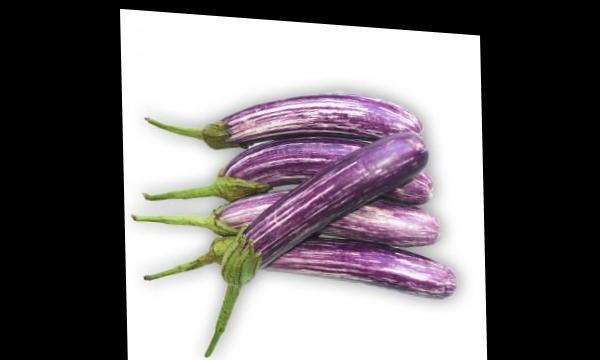eggplant: (193, 56, 437, 325)
